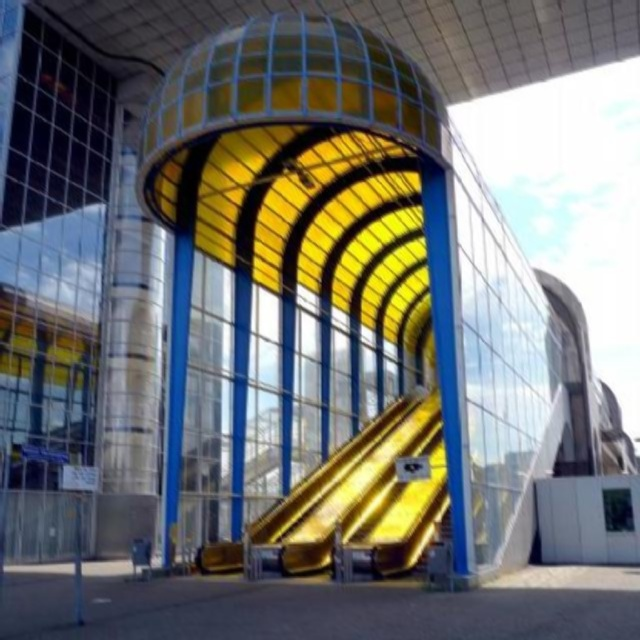stair: (303, 423, 445, 579), (391, 500, 451, 575)
